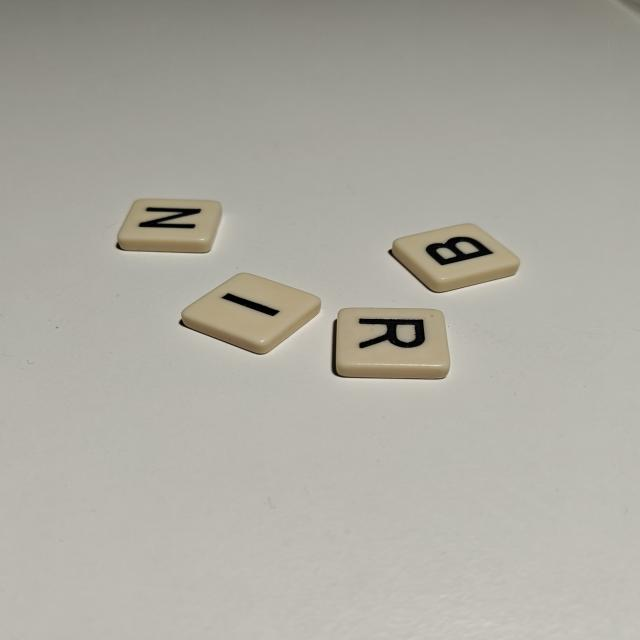b: (392, 224, 519, 292)
i: (182, 273, 321, 354)
n: (118, 199, 222, 253)
r: (335, 308, 450, 379)
